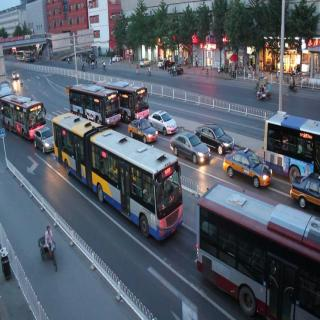BigCar: (52, 106, 188, 250), (197, 183, 320, 320), (261, 106, 320, 177), (68, 80, 119, 132), (104, 73, 159, 120), (0, 88, 44, 143)
Car: (220, 143, 274, 191), (170, 128, 212, 182), (202, 116, 236, 158), (291, 173, 320, 219), (151, 104, 184, 134), (129, 116, 161, 146), (34, 125, 59, 156)
